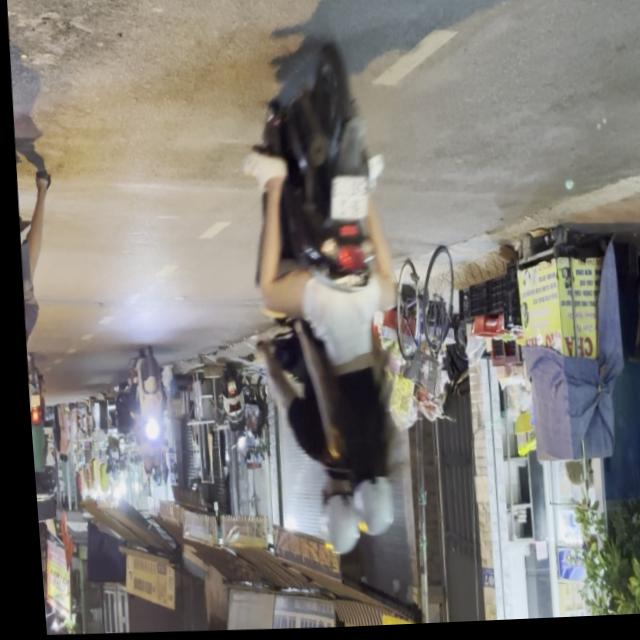helmet: (341, 461, 393, 543), (309, 475, 356, 559)
licenseplate: (226, 32, 415, 563), (8, 135, 69, 552)
nohelmet: (325, 178, 368, 224)
